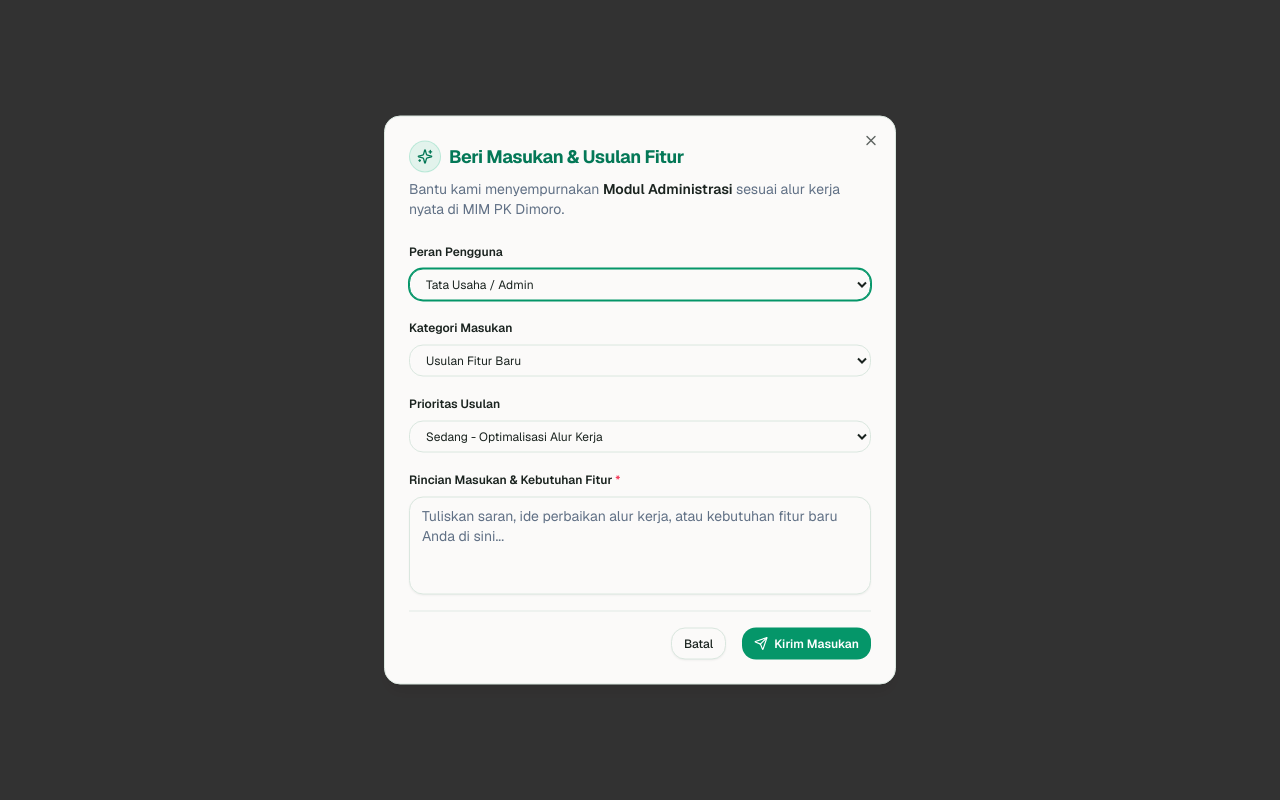
Test case: QuickFeedbackDialog Component › handles submission failure gracefully
Replace the text in the text box with placeholder "Tuliskan saran, ide perbaikan alur kerja" with "Test masukan gagal kirim" at (640,546), box [409,496,871,594]
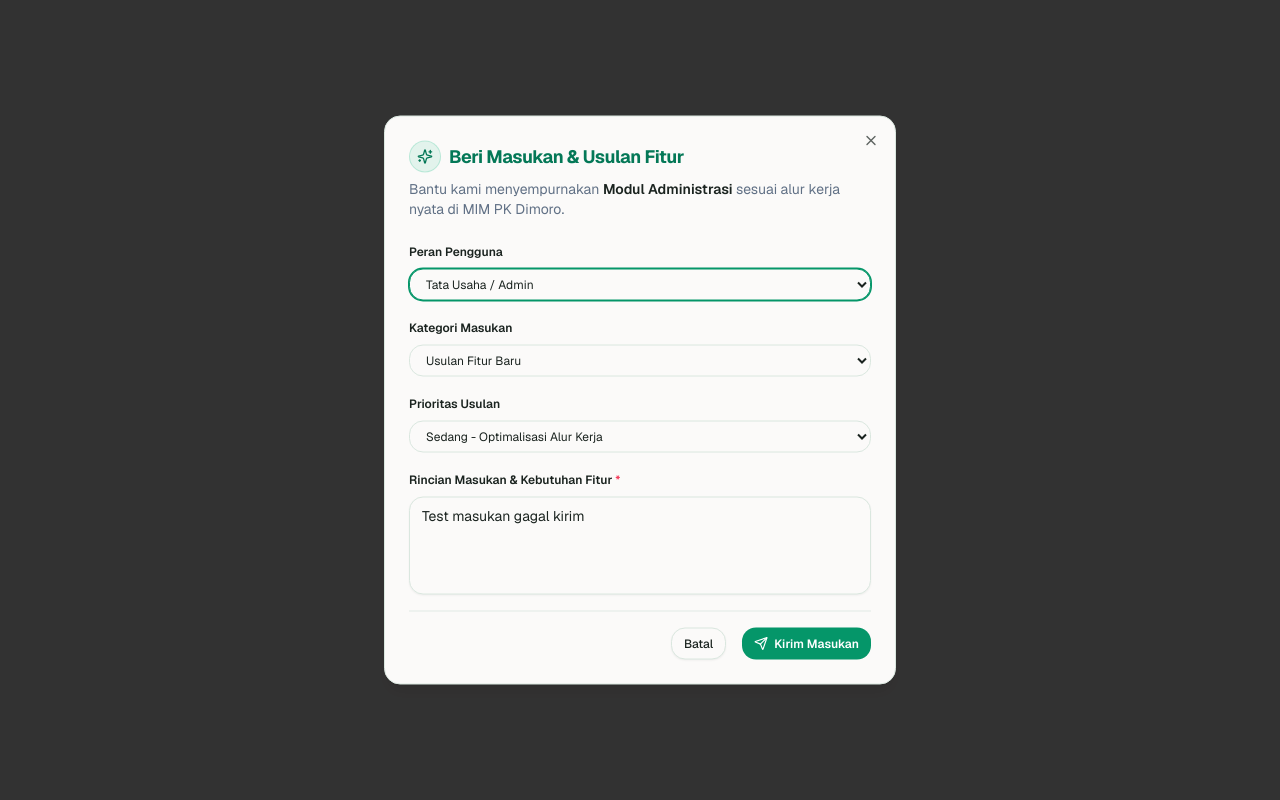
Click the button "Kirim Masukan" at (807,644), box [742,628,871,660]
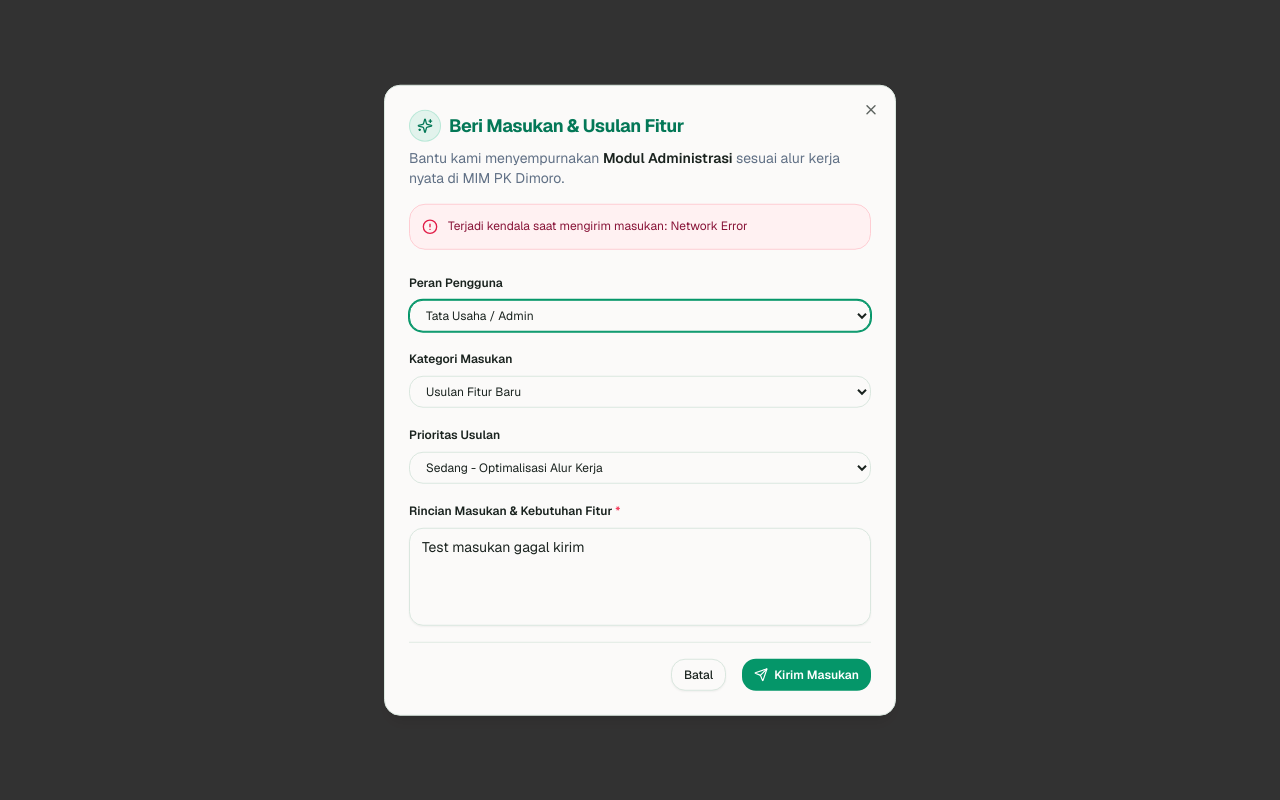
Expected: the text "Terjadi kendala saat mengirim masukan: Network Error" is shown, [448,217,748,236]
